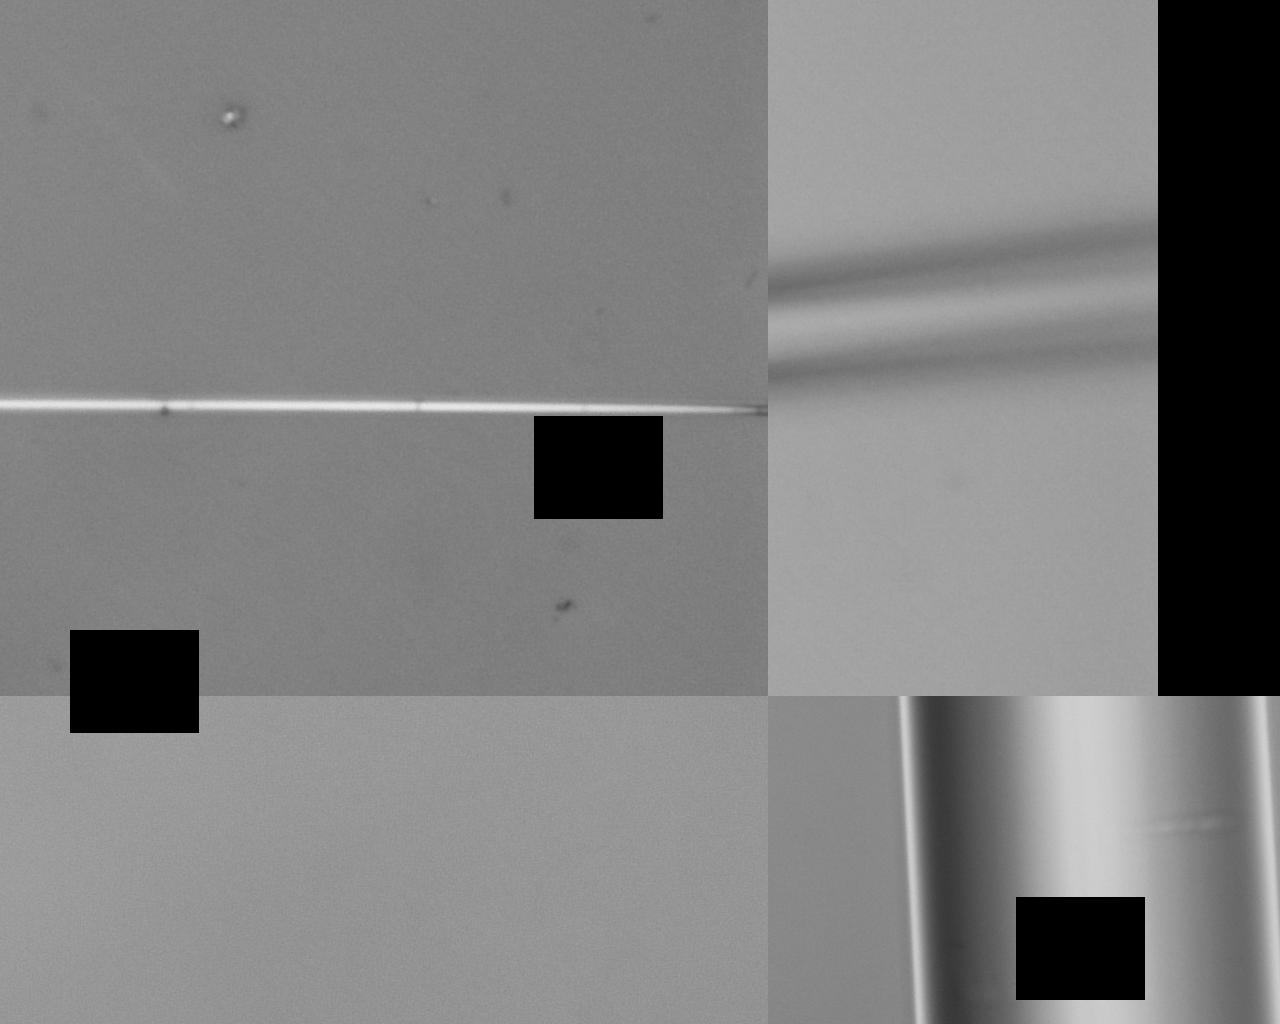fiber: (1075, 471, 1280, 1024), (691, 0, 912, 471), (572, 471, 644, 1024)
